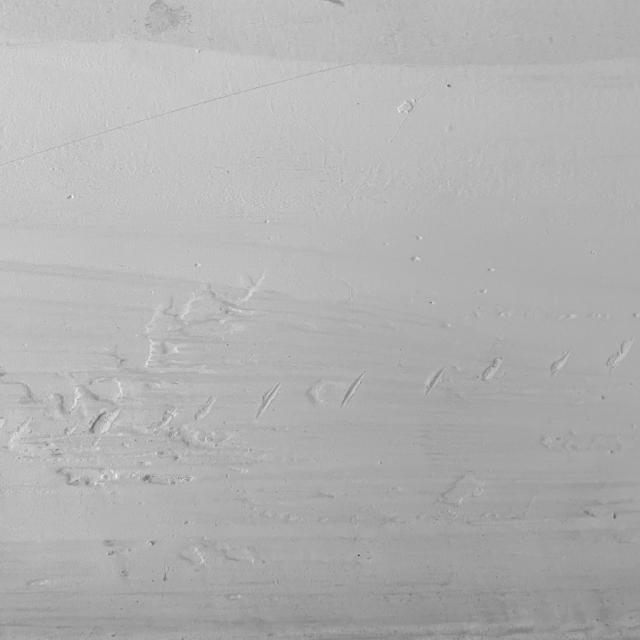rough and patchy surface: (0, 257, 639, 580), (362, 61, 464, 142)
